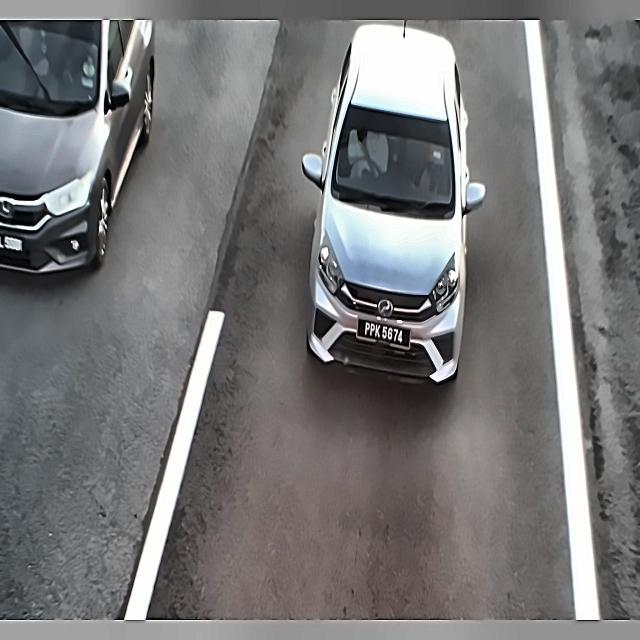car: (353, 311, 416, 354), (0, 223, 28, 262)
